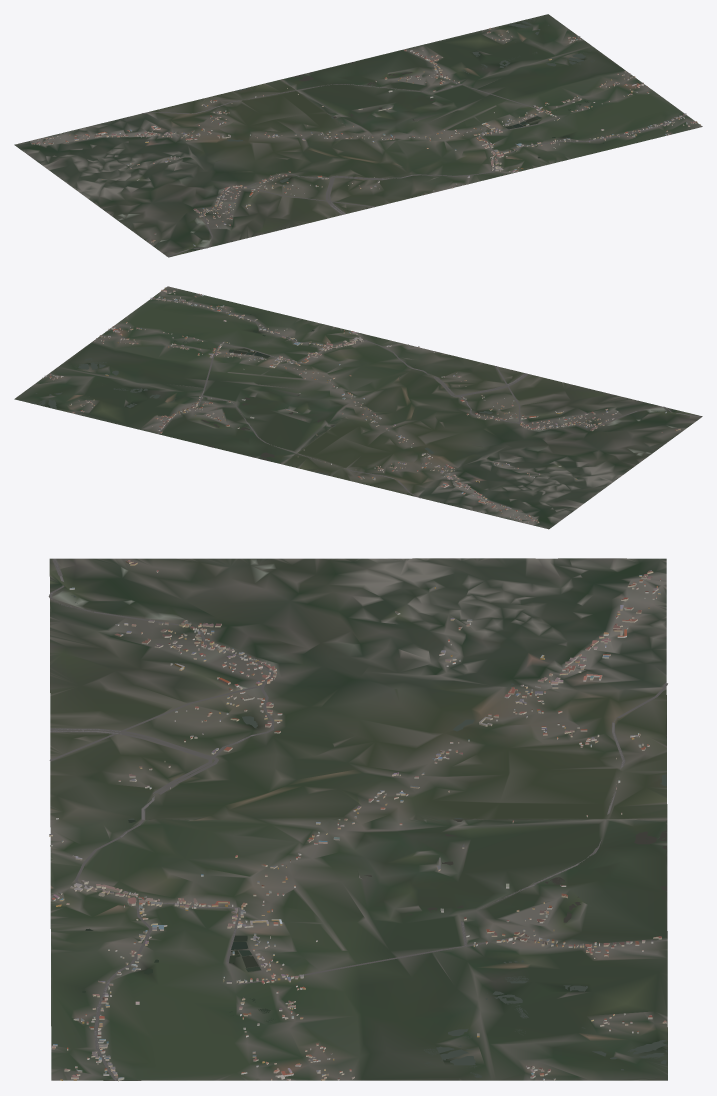
The picture shows the model from 3 angles, top to bottom: view 1: azimuth 30°, elevation 25°; view 2: azimuth 150°, elevation 25°; view 3: azimuth 270°, elevation 25°; orthographic projection. The views are drawn at different scales.
Visible parts, largest first — view 1: ground, buildings, roads, water; view 2: ground, buildings, roads, water; view 3: ground, buildings, roads, water.
Boxes of the visible parts, left/top/right/bottom form: ground: left=14, top=14, right=702, bottom=257; buildings: left=31, top=28, right=700, bottom=246; roads: left=142, top=49, right=686, bottom=256; water: left=180, top=18, right=603, bottom=243; ground: left=14, top=286, right=702, bottom=529; buildings: left=42, top=287, right=680, bottom=523; roads: left=152, top=298, right=701, bottom=498; water: left=31, top=314, right=659, bottom=475; ground: left=49, top=558, right=667, bottom=1080; buildings: left=49, top=560, right=666, bottom=1081; roads: left=48, top=558, right=667, bottom=1080; water: left=71, top=595, right=667, bottom=1077.
Size of the model in its own units: 5622 by 21.96 by 2817.
